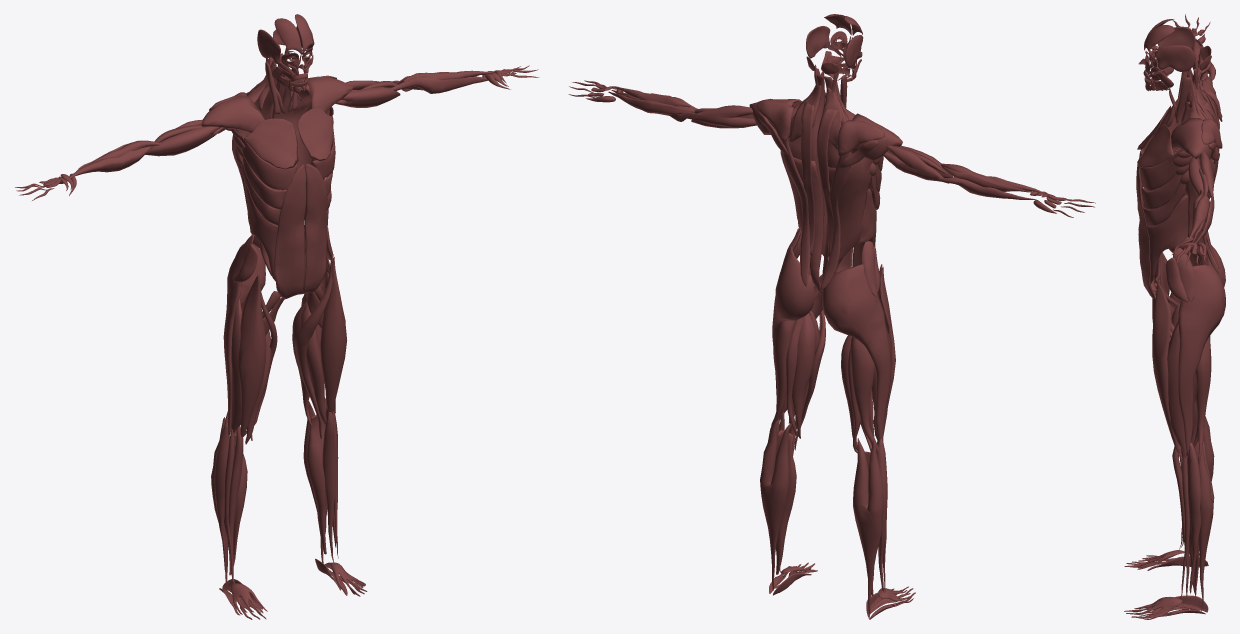
File: muscle.fbx
3 renders of one model, left to right at view 1: azimuth 30°, elevation 25°; view 2: azimuth 150°, elevation 25°; view 3: azimuth 270°, elevation 25°, orthographic.
Parts seen in each view (by area): view 1: TorsoMusclesRectusAbdominisMuscle, LegMusclesRectusFemorisMuscleRight, LegMusclesRectusFemorisMuscleLeft, TorsoMusclesPectoralMuscleRight, LegMusclesTensorFasciaeLataeMuscleRight, LegMusclesSoleusMuscleLeft, ArmMusclesDeltoideusMuscleRight, TorsoMusclesPectoralMuscleLeft, LegMusclesSartoriusMuscleLeft, LegMusclesTibialisAnteriorMuscleLeft, ArmMusclesBicepsBrachiiRight, TorsoMusclesObliqueRight01 (+13 smaller); view 2: LegMusclesTensorFasciaeLataeMuscleRight, LegMusclesGastrocnemiusMuscleRight, LegMusclesGastrocnemiusMuscleLeft, TorsoMusclesLatissimMuscleRight, LegMusclesTensorFasciaeLataeMuscleLeft, TorsoMusclesLatissimMuscleLeft, LegMusclesBicepFemorisMuscleRight1, LegMusclesVastusIntermediusMuscleLeft, TorsoMusclesLongissimusMuscleRight, TorsoMusclesSpinalisMuscleLeft, TorsoMusclesLongissimusMuscleLeft, TorsoMusclesSpinalisMuscleRight (+13 smaller); view 3: LegMusclesTensorFasciaeLataeMuscleLeft, LegMusclesRectusFemorisMuscleLeft, TorsoMusclesObliqueLeft01, LegMusclesVastusLateralisMuscleLeft, LegMusclesGastrocnemiusMuscleLeft, LegMusclesPeroneuslongusMuscleLeft, LegMusclesBicepFemorisMuscleLeft1, TorsoMusclesRectusAbdominisMuscle, ArmMusclesDeltoideusMuscleLeft, TorsoMusclesPectoralMuscleLeft, HeadMusclesTemporalMuscleLeft, TorsoMusclesObliqueLeft04 (+32 smaller).
Part boxes in pixels (box(x1,y1,x2,y2)): TorsoMusclesRectusAbdominisMuscle: box(274, 163, 327, 299); LegMusclesRectusFemorisMuscleRight: box(238, 275, 266, 437); LegMusclesRectusFemorisMuscleLeft: box(320, 257, 347, 413); TorsoMusclesPectoralMuscleRight: box(244, 118, 298, 169); LegMusclesTensorFasciaeLataeMuscleRight: box(223, 243, 265, 438); LegMusclesSoleusMuscleLeft: box(306, 414, 327, 554); ArmMusclesDeltoideusMuscleRight: box(201, 95, 264, 133); TorsoMusclesPectoralMuscleLeft: box(297, 107, 333, 160); LegMusclesSartoriusMuscleLeft: box(294, 254, 333, 439); LegMusclesTibialisAnteriorMuscleLeft: box(322, 411, 335, 562); ArmMusclesBicepsBrachiiRight: box(145, 126, 223, 156); TorsoMusclesObliqueRight01: box(236, 129, 297, 190); LegMusclesTensorFasciaeLataeMuscleRight: box(822, 264, 891, 443); LegMusclesGastrocnemiusMuscleRight: box(853, 438, 883, 614); LegMusclesGastrocnemiusMuscleLeft: box(760, 421, 791, 590); TorsoMusclesLatissimMuscleRight: box(822, 157, 872, 278); LegMusclesTensorFasciaeLataeMuscleLeft: box(772, 244, 814, 417); TorsoMusclesLatissimMuscleLeft: box(780, 150, 824, 294); LegMusclesBicepFemorisMuscleRight1: box(850, 337, 878, 451); LegMusclesVastusIntermediusMuscleLeft: box(792, 313, 816, 438); TorsoMusclesLongissimusMuscleRight: box(820, 80, 851, 290); TorsoMusclesSpinalisMuscleLeft: box(800, 102, 814, 257); TorsoMusclesLongissimusMuscleLeft: box(781, 76, 823, 287); TorsoMusclesSpinalisMuscleRight: box(817, 108, 838, 260); LegMusclesTensorFasciaeLataeMuscleLeft: box(1178, 264, 1225, 457); LegMusclesRectusFemorisMuscleLeft: box(1152, 283, 1178, 452); TorsoMusclesObliqueLeft01: box(1147, 194, 1188, 284); LegMusclesVastusLateralisMuscleLeft: box(1167, 321, 1197, 457); LegMusclesGastrocnemiusMuscleLeft: box(1198, 435, 1214, 611); LegMusclesPeroneuslongusMuscleLeft: box(1188, 442, 1201, 593); LegMusclesBicepFemorisMuscleLeft1: box(1195, 337, 1211, 463); TorsoMusclesRectusAbdominisMuscle: box(1136, 156, 1156, 298); ArmMusclesDeltoideusMuscleLeft: box(1171, 118, 1211, 159); TorsoMusclesPectoralMuscleLeft: box(1137, 124, 1173, 168); HeadMusclesTemporalMuscleLeft: box(1154, 45, 1195, 71); TorsoMusclesObliqueLeft04: box(1139, 149, 1182, 191).
Size of the model in its own units: 139 by 147 by 23.9.
